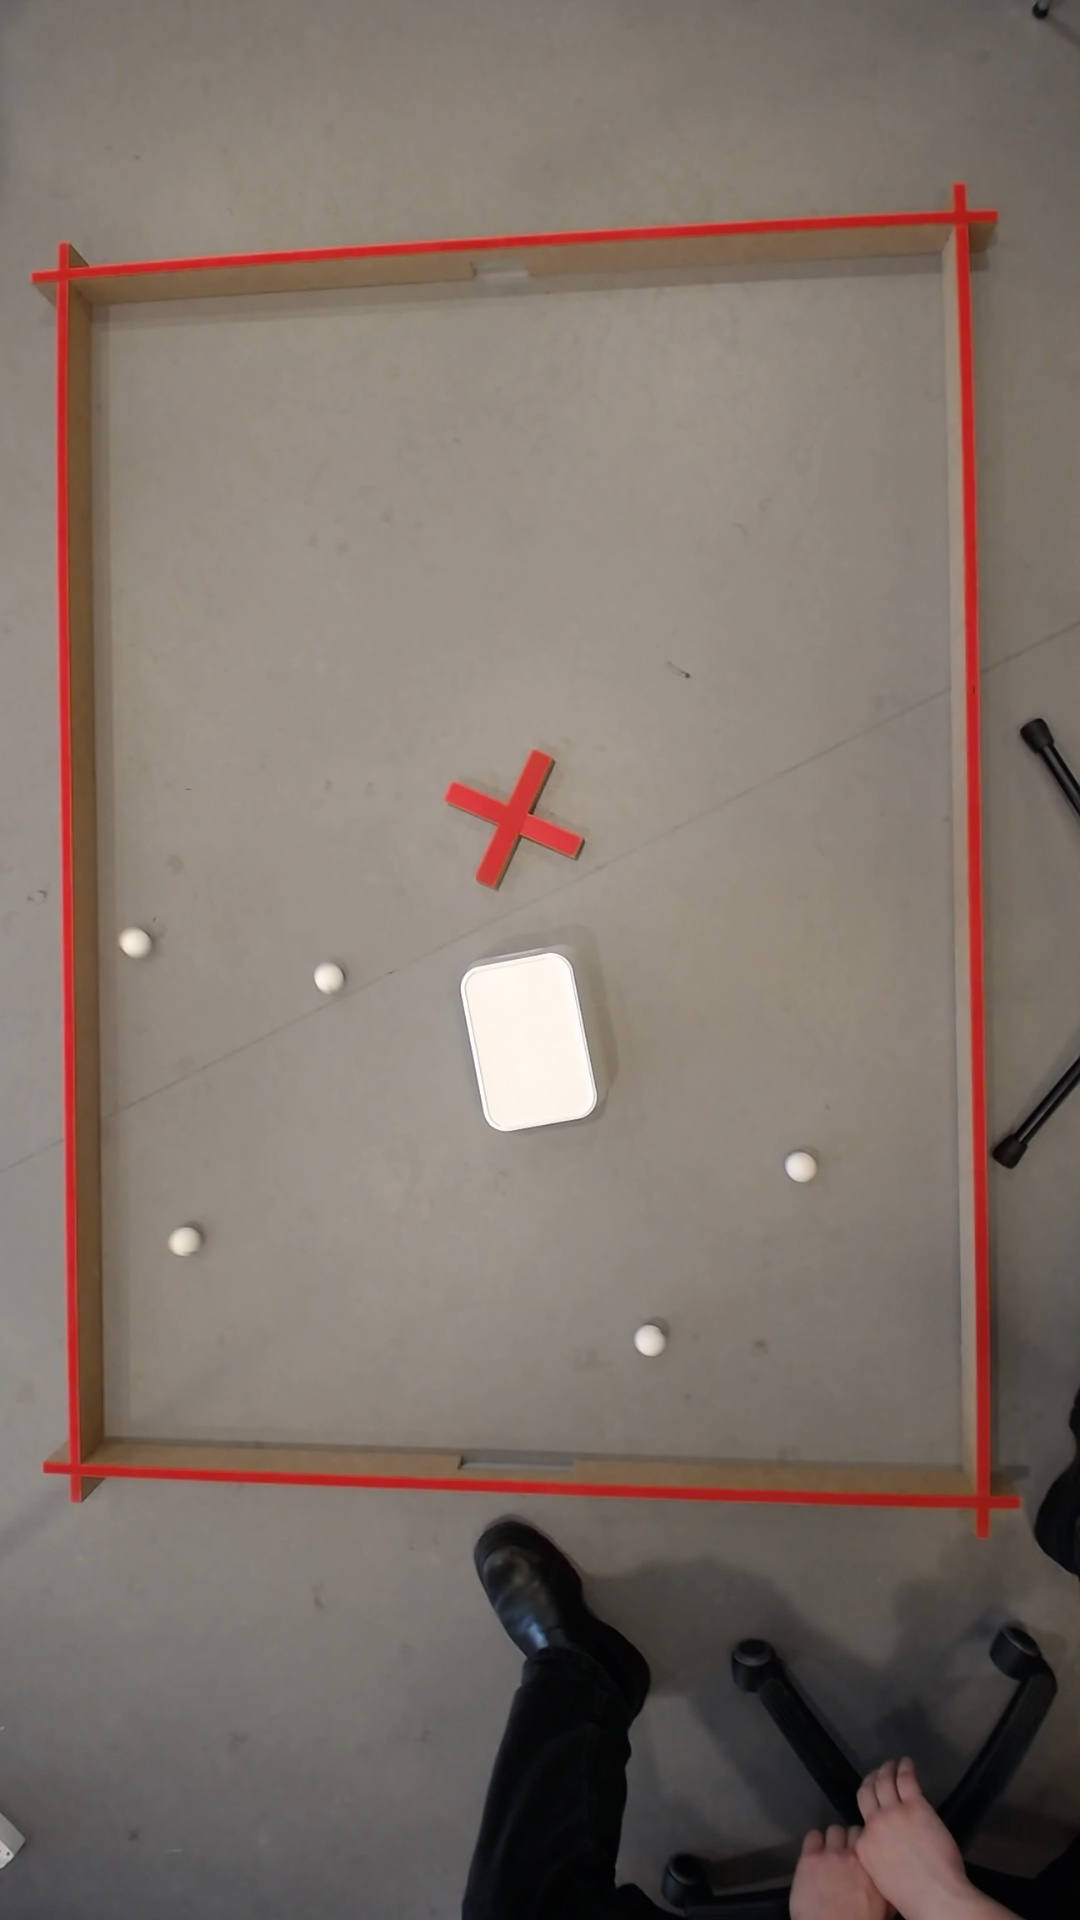balls: (454, 947, 600, 1135), (115, 924, 149, 957), (309, 960, 342, 994), (630, 1324, 662, 1357), (781, 1151, 812, 1183)
car: (170, 1230, 191, 1254)
